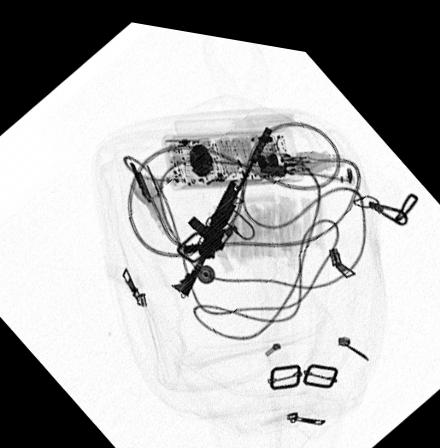Gun: (169, 116, 274, 291)
